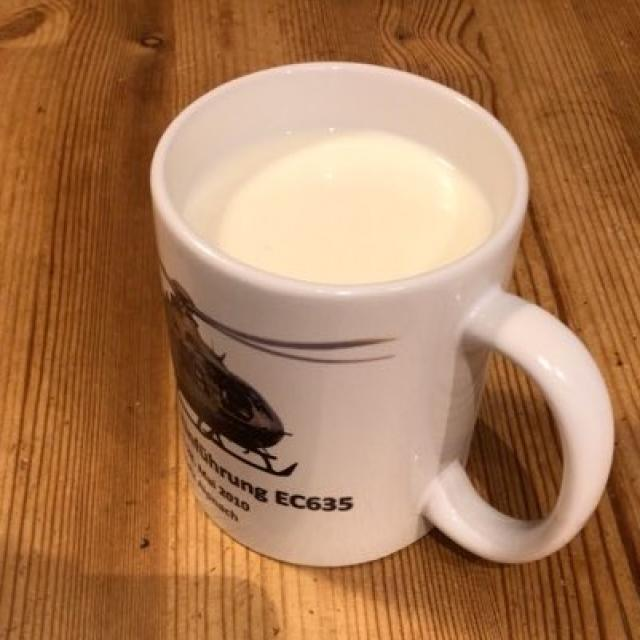milk: (202, 148, 486, 288)
